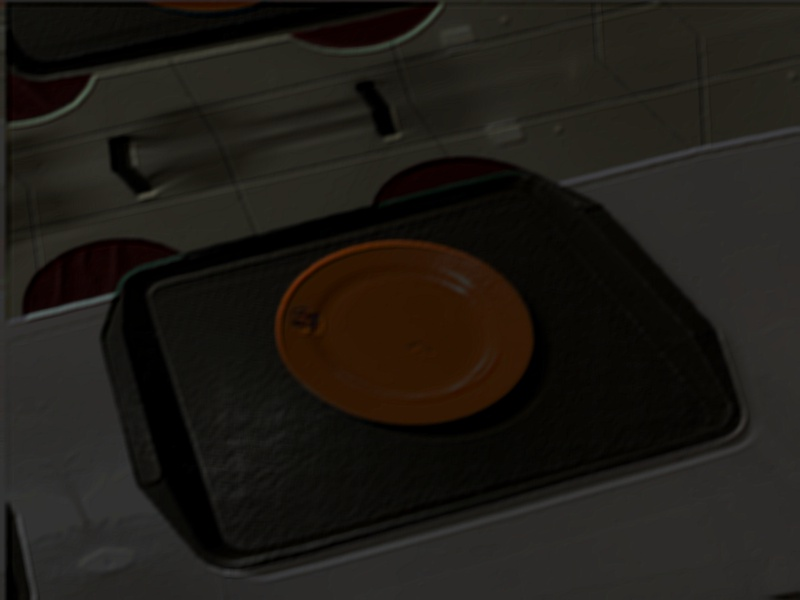dish10: (236, 214, 582, 458)
